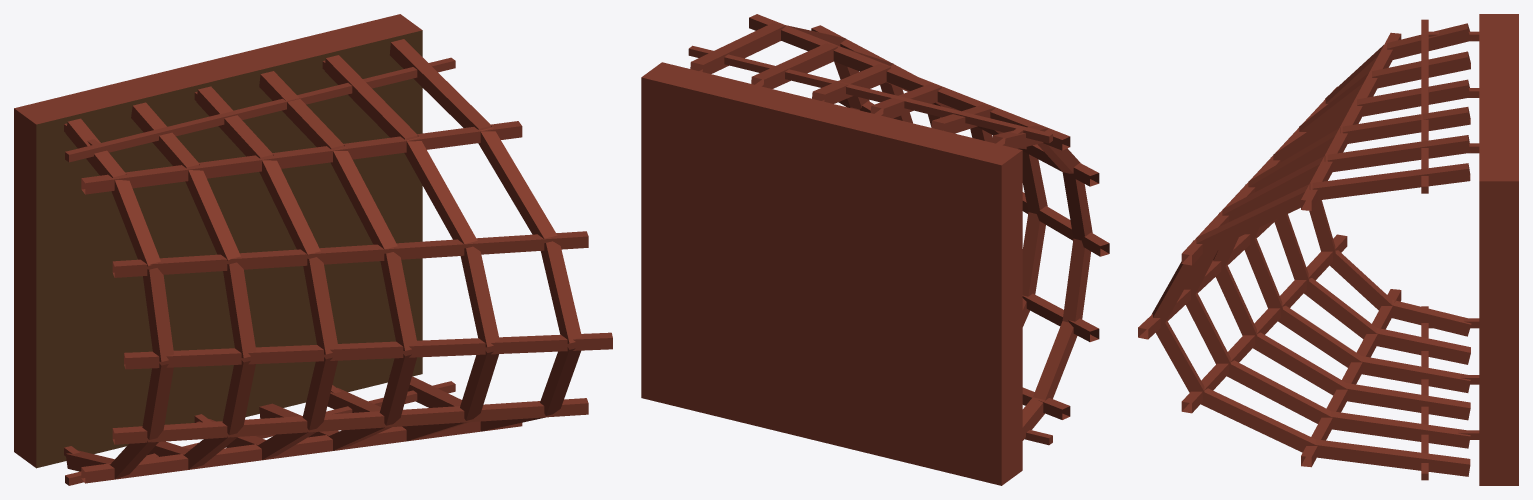
File: north.glb
The picture shows the model from 3 angles, left to right: view 1: azimuth 30°, elevation 25°; view 2: azimuth 150°, elevation 25°; view 3: azimuth 270°, elevation 25°; orthographic projection. The views are drawn at different scales.
Visible parts, largest first — view 1: bridge_10_north; view 2: bridge_10_north; view 3: bridge_10_north.
Part boxes in pixels (left/top/right/bottom): bridge_10_north: left=14, top=14, right=612, bottom=485; bridge_10_north: left=641, top=14, right=1109, bottom=485; bridge_10_north: left=1138, top=14, right=1518, bottom=485.
Bounding box in the file's own units: 16.19 × 13.74 × 15.4.
